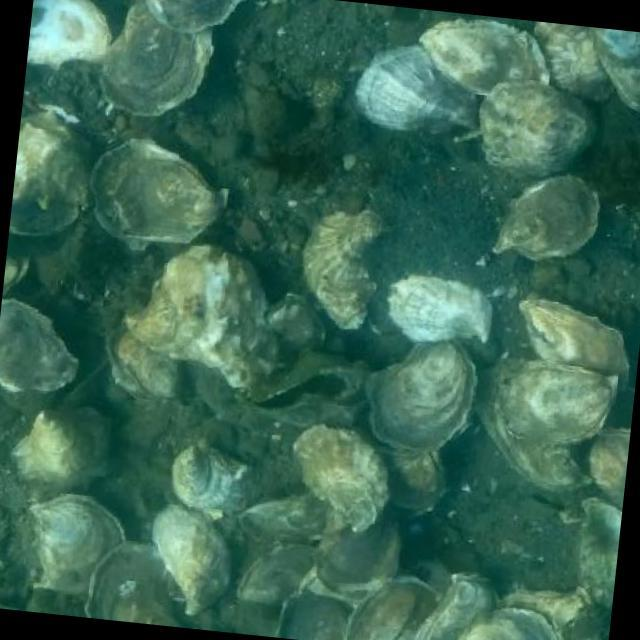Oyster- Indeterminate: (125, 243, 277, 386), (471, 356, 593, 491), (87, 137, 229, 243), (99, 0, 211, 115), (365, 339, 476, 451), (478, 80, 595, 175), (354, 44, 476, 133), (494, 361, 617, 447), (29, 491, 126, 600), (301, 208, 387, 329), (291, 424, 388, 530), (418, 19, 547, 94), (150, 504, 230, 614), (492, 174, 598, 257), (12, 407, 107, 499), (385, 258, 490, 341), (313, 502, 401, 597), (85, 542, 178, 627), (11, 110, 88, 208), (0, 299, 77, 390), (530, 21, 610, 102), (105, 319, 178, 399), (171, 446, 259, 511), (573, 497, 621, 612), (494, 587, 594, 640), (418, 572, 495, 640), (237, 489, 327, 544), (233, 542, 312, 603), (376, 446, 444, 516), (575, 426, 630, 507), (264, 294, 322, 366), (591, 27, 640, 112), (273, 592, 348, 640), (458, 608, 558, 640), (145, 0, 242, 30)
Oyster-Closed: (518, 296, 627, 392)
Oyster-Open: (235, 351, 368, 427), (341, 574, 436, 640)
